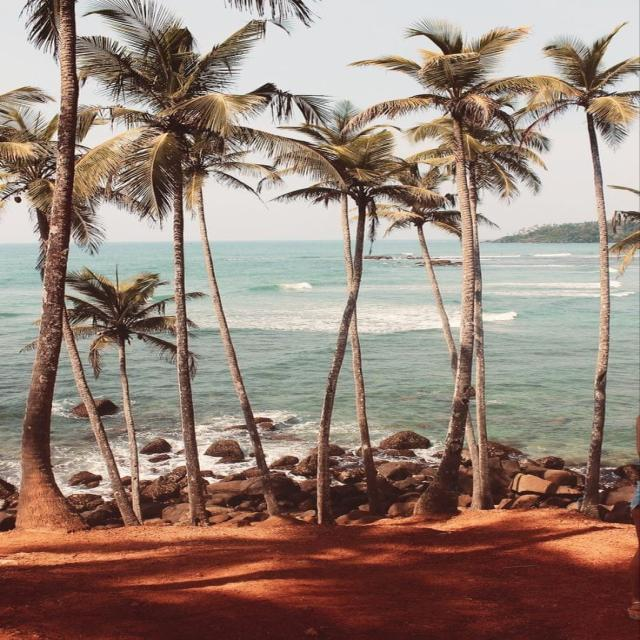Coconut-tree: (400, 31, 538, 515), (129, 36, 256, 530), (280, 135, 427, 547), (526, 26, 635, 518), (14, 0, 107, 516)
